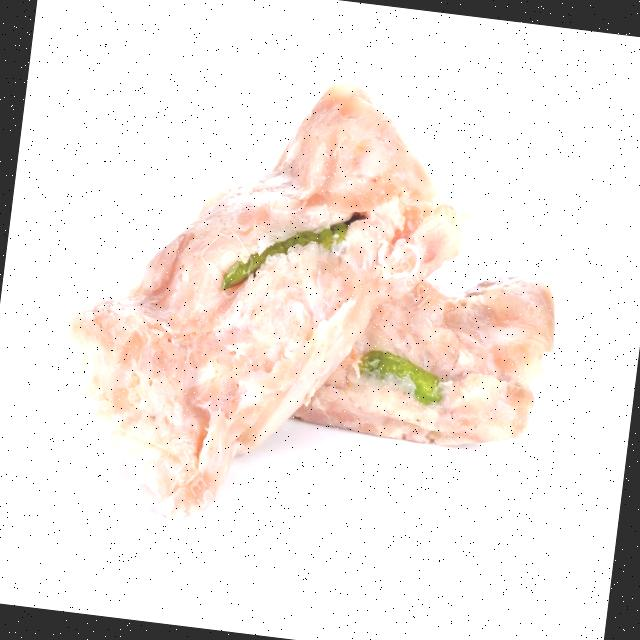meat: (22, 54, 616, 590)
